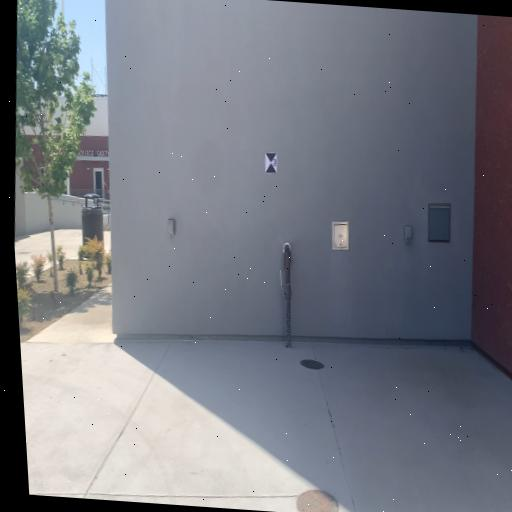target3: (265, 152, 277, 175)
